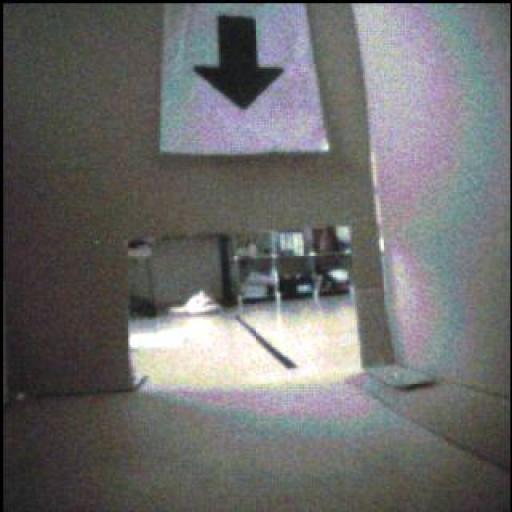arrow: (195, 17, 284, 110)
